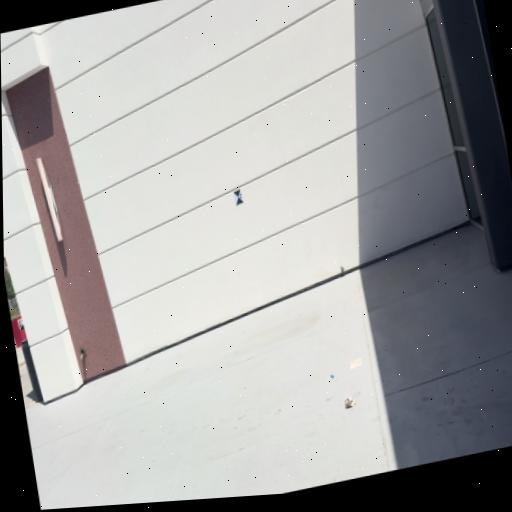target7: (234, 188, 244, 205)
